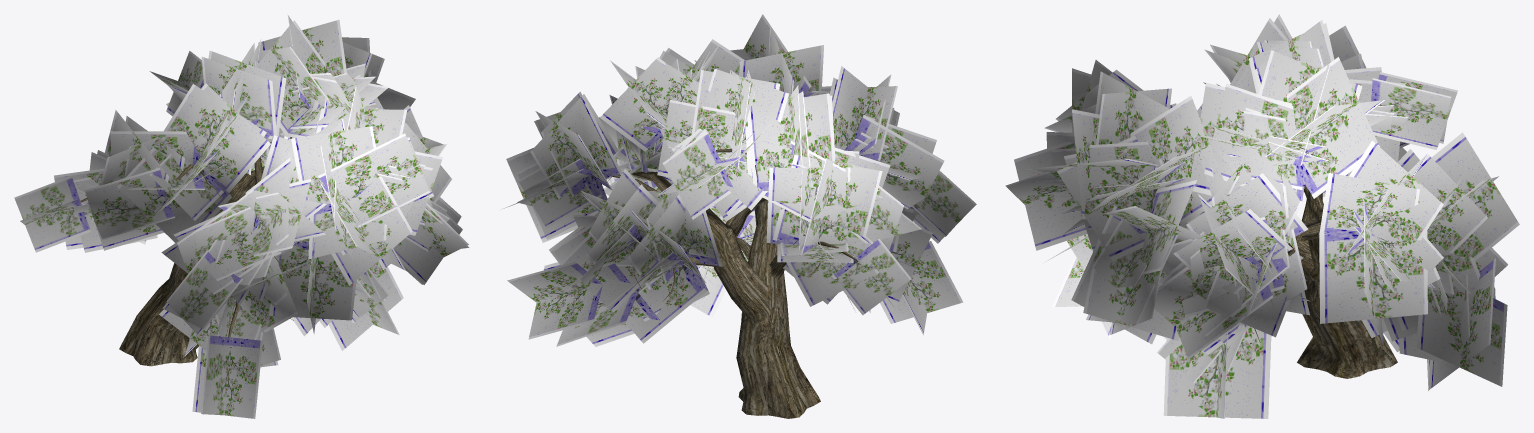
The model's file is Apple tree.fbx.
The picture shows the model from 3 angles, left to right: view 1: azimuth 30°, elevation 25°; view 2: azimuth 150°, elevation 25°; view 3: azimuth 270°, elevation 25°; orthographic projection. The views are drawn at different scales.
Visible parts, largest first — view 1: tree, tree.001; view 2: tree, tree.001; view 3: tree, tree.001.
Boxes of the visible parts, box(x1,y1,x2,y2) form: tree: box(14, 14, 469, 418); tree.001: box(80, 93, 298, 366); tree: box(503, 14, 976, 346); tree.001: box(599, 120, 858, 418); tree: box(1005, 14, 1519, 418); tree.001: box(1139, 144, 1397, 378).
Bounding box in the file's own units: 3735 × 2759 × 3461.
Materials: 2 (2 with a texture image).
